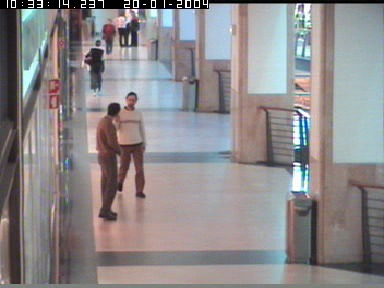person: (112, 90, 146, 198), (95, 102, 123, 220), (81, 39, 105, 97), (102, 18, 116, 54), (116, 11, 128, 47), (130, 15, 140, 47)
